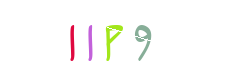9: (82, 0, 162, 80)
I: (32, 0, 112, 80), (71, 0, 151, 80)
P: (75, 0, 155, 80)
